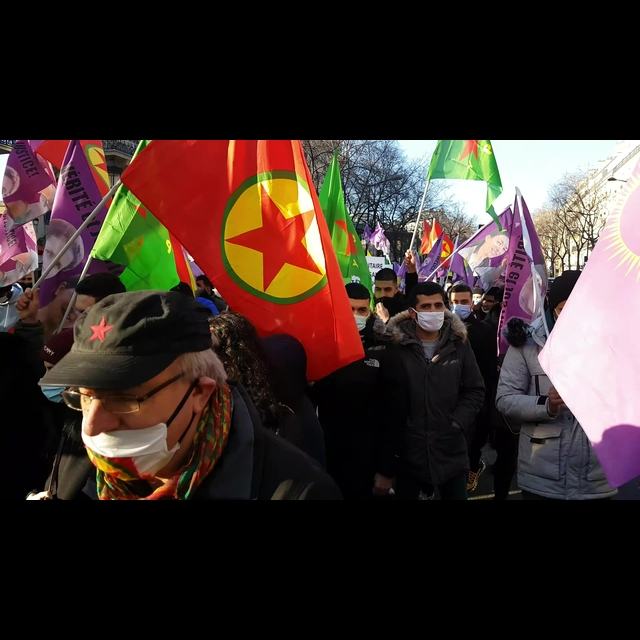PKK: (220, 167, 332, 305)
